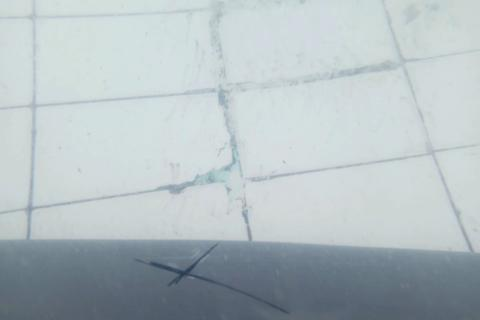keretakan: (134, 242, 292, 317)
